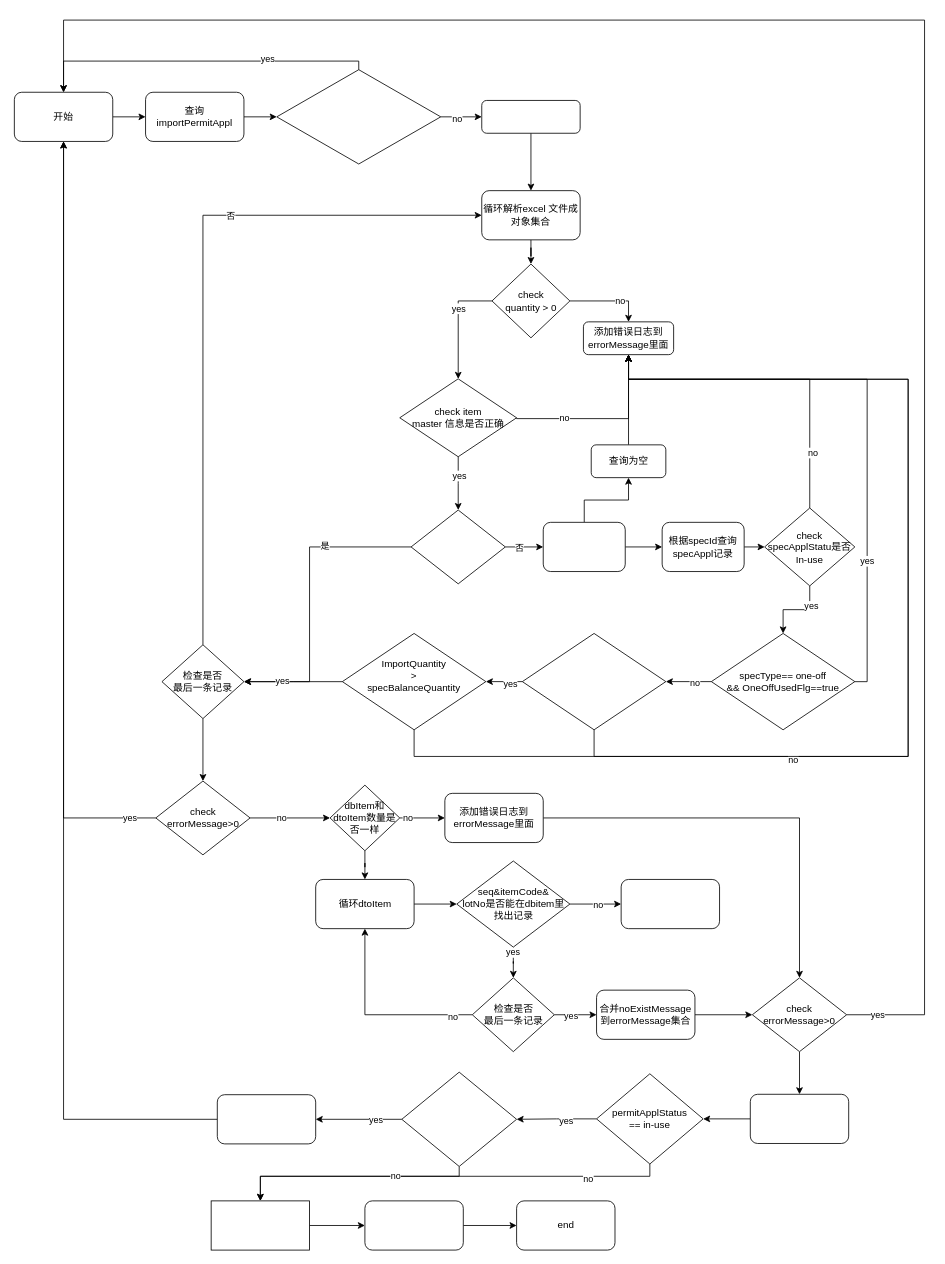
Image size: 945x1264. Some labels were removed from this diagram. Each missing label, with the centre of its shape:
"check permitNo receivedDate expiryDate是否为空" belongs at (x=459, y=1118).
"check specItemCode 和permitItemCode 是否相同" belongs at (x=594, y=681).
"chek SpecNo 是否为空" belongs at (x=457, y=546).
"permitStatus!=submitted && permitStatus!=in-use" belongs at (x=358, y=116).
"保存上传的execl 到db 获取 excelUploadId" belongs at (x=413, y=1225).
"把上传文件记录的对象转换成 importDto对象" belongs at (x=260, y=1225).
"根据specNo查询记录" belongs at (x=583, y=547).
"添加错误日志" belongs at (x=266, y=1119).
"添加错误日志到noExistMessage" belongs at (x=670, y=904).
"解析excel 文件成dtoItems对象集合" belongs at (x=530, y=116).
"过滤已经被shipment 使用的item" belongs at (x=799, y=1118).
